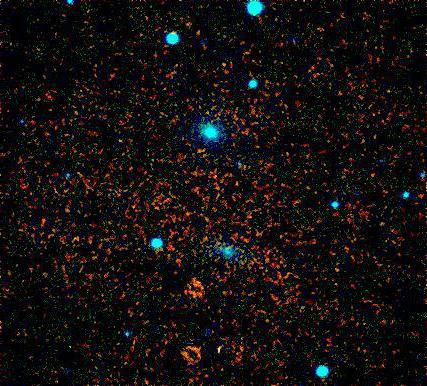star: (204, 50, 234, 80)
